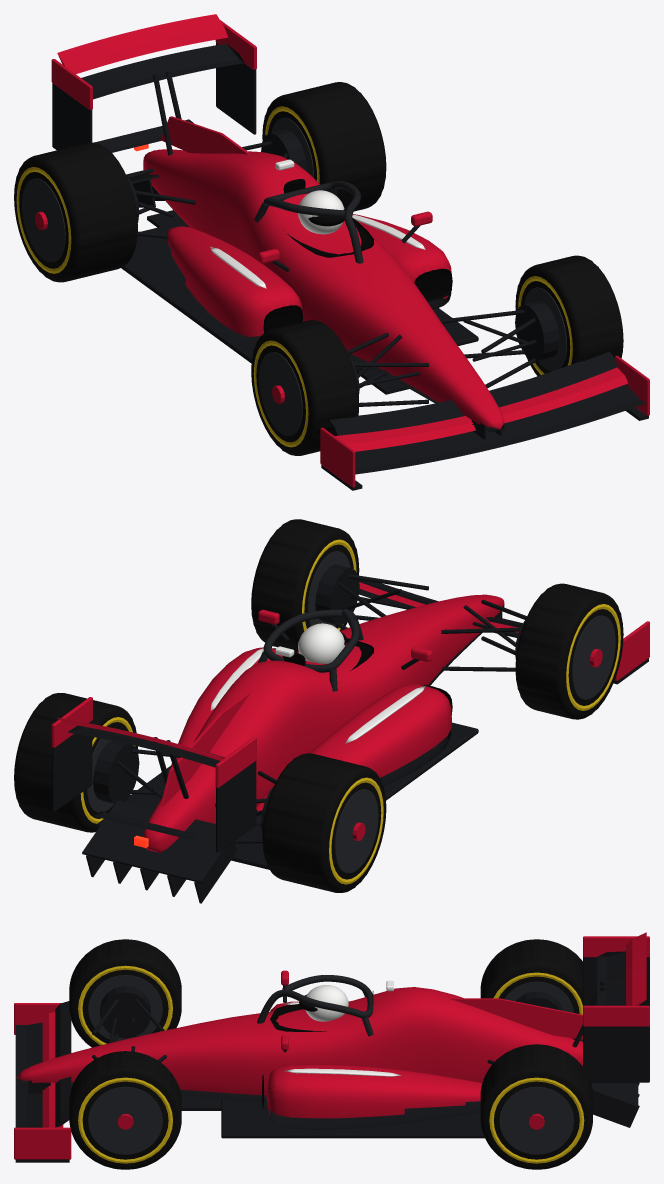
The picture shows the model from 3 angles, top to bottom: view 1: azimuth 30°, elevation 25°; view 2: azimuth 150°, elevation 25°; view 3: azimuth 270°, elevation 25°; orthographic projection. The views are drawn at different scales.
Parts seen in each view (by area): view 1: body, wheel-back-right, wheel-front-right, wheel-back-left, wheel-front-left; view 2: body, wheel-back-right, wheel-front-right, wheel-front-left, wheel-back-left; view 3: body, wheel-back-left, wheel-front-left, wheel-front-right, wheel-back-right.
Boxes of the visible parts, x1=… form: body: x1=51, y1=14, x2=649, y2=490; wheel-back-right: x1=14, y1=142, x2=137, y2=282; wheel-front-right: x1=251, y1=320, x2=359, y2=455; wheel-back-left: x1=262, y1=82, x2=386, y2=211; wheel-front-left: x1=515, y1=255, x2=623, y2=376; body: x1=51, y1=564, x2=649, y2=903; wheel-back-right: x1=262, y1=753, x2=386, y2=892; wheel-front-right: x1=515, y1=583, x2=623, y2=719; wheel-front-left: x1=251, y1=519, x2=359, y2=649; wheel-back-left: x1=14, y1=693, x2=137, y2=832; body: x1=14, y1=932, x2=649, y2=1162; wheel-back-left: x1=480, y1=1044, x2=592, y2=1169; wheel-front-left: x1=69, y1=1051, x2=181, y2=1169; wheel-front-right: x1=69, y1=939, x2=181, y2=1047; wheel-back-right: x1=480, y1=939, x2=582, y2=1014.
Size of the model in its own units: 2.02 by 0.9867 by 3.99.
